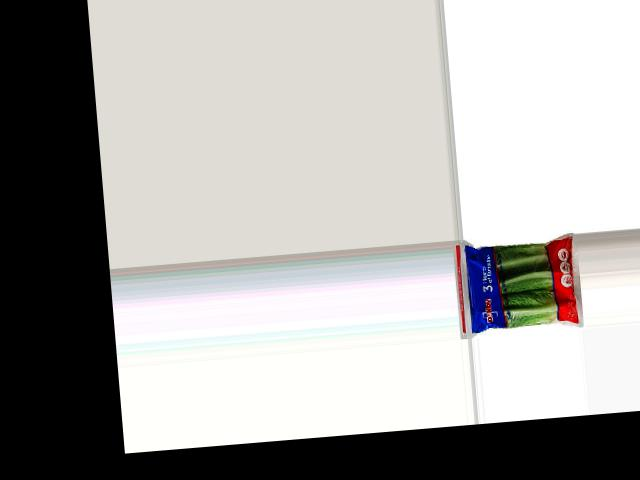lettuce: (459, 235, 583, 338)
